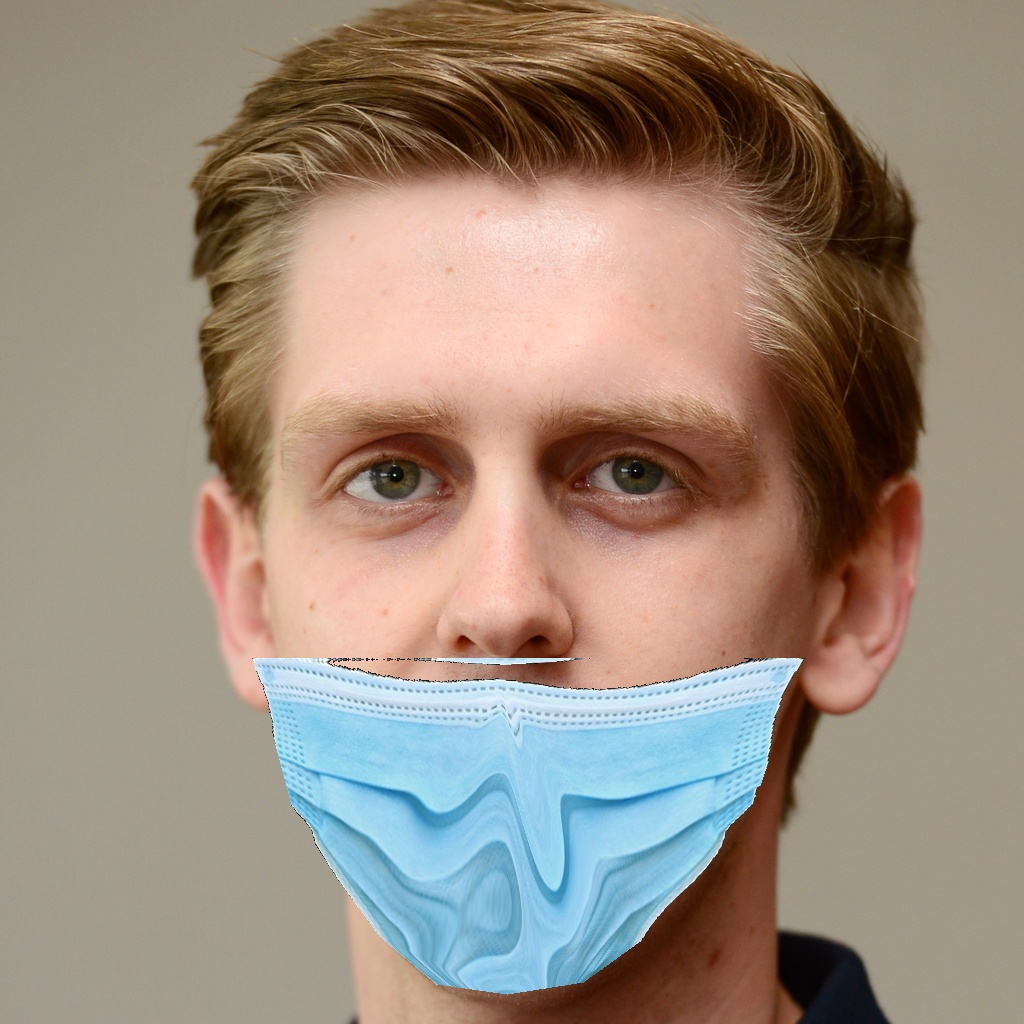mascarilla_mal_puesta: (214, 325, 937, 1015)
